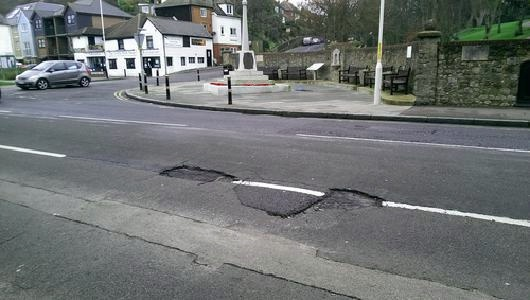pothole: (317, 184, 384, 209), (156, 162, 233, 183)
